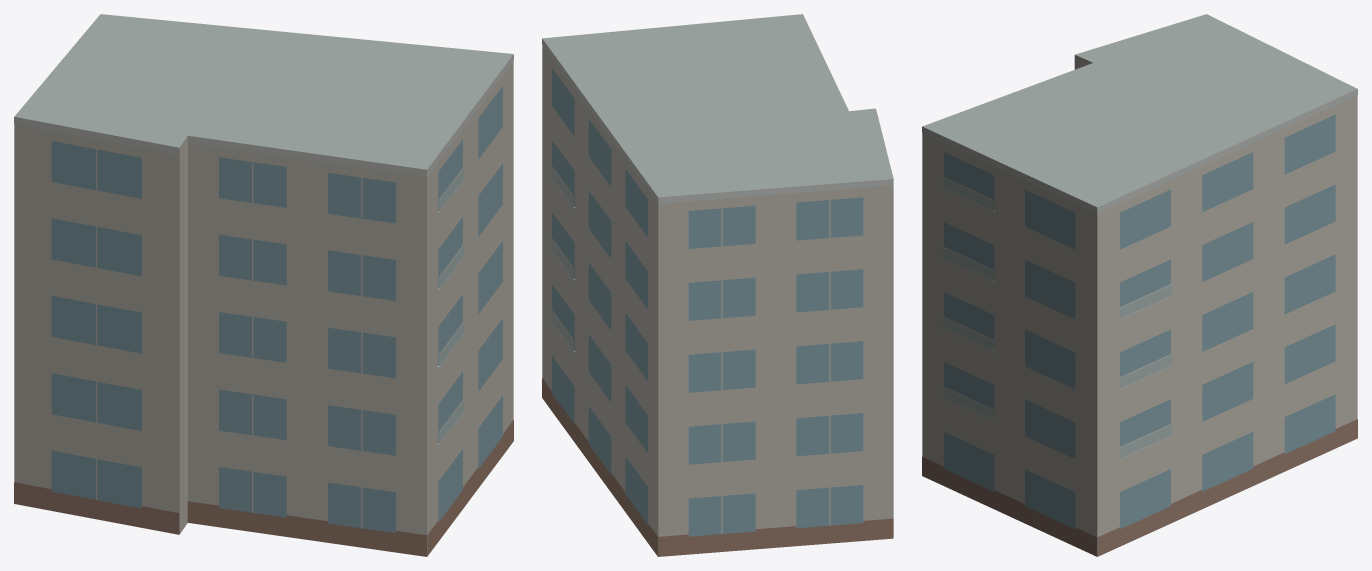
Rendered from survey-upis-32930818.glb.
The picture shows the model from 3 angles, left to right: view 1: azimuth 30°, elevation 25°; view 2: azimuth 150°, elevation 25°; view 3: azimuth 270°, elevation 25°; orthographic projection. The views are drawn at different scales.
Parts seen in each view (by area): view 1: survey-upis-32930818.tmp; view 2: survey-upis-32930818.tmp; view 3: survey-upis-32930818.tmp.
Part boxes in pixels (x1=…): survey-upis-32930818.tmp: x1=14, y1=14, x2=513, y2=556; survey-upis-32930818.tmp: x1=542, y1=14, x2=893, y2=556; survey-upis-32930818.tmp: x1=922, y1=14, x2=1357, y2=556.
Bounding box in the file's own units: 16.27 × 13.7 × 15.49.
